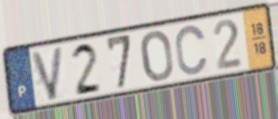2: (69, 41, 103, 96), (212, 17, 242, 72)
7: (104, 32, 133, 91)
C: (174, 23, 210, 77)
O: (139, 29, 175, 84)
V: (29, 44, 66, 103)
